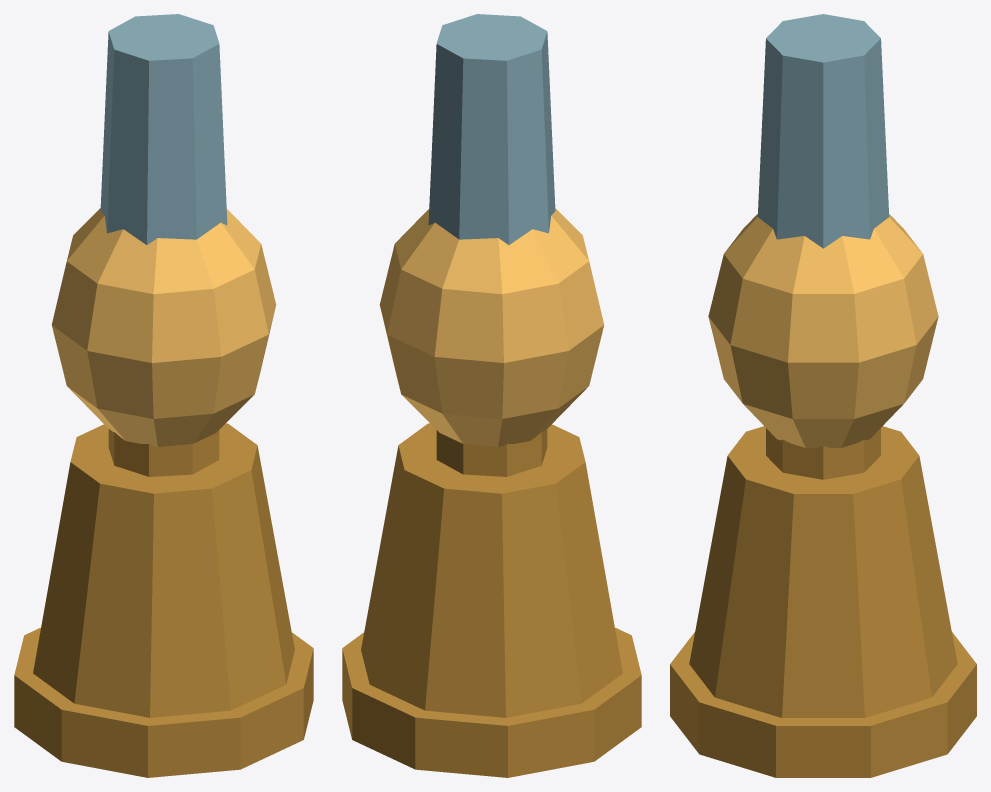
File: SM_Oil_Lamp.obj
3 renders of one model, left to right at view 1: azimuth 30°, elevation 25°; view 2: azimuth 150°, elevation 25°; view 3: azimuth 270°, elevation 25°, orthographic.
Visible parts, largest first — view 1: SM_Oil_Lamp; view 2: SM_Oil_Lamp; view 3: SM_Oil_Lamp.
Boxes of the visible parts, left/top/right/bottom form: SM_Oil_Lamp: left=14, top=14, right=313, bottom=777; SM_Oil_Lamp: left=342, top=14, right=641, bottom=777; SM_Oil_Lamp: left=670, top=14, right=976, bottom=777.
Size of the model in its own units: 0.1522 by 0.39 by 0.16.
